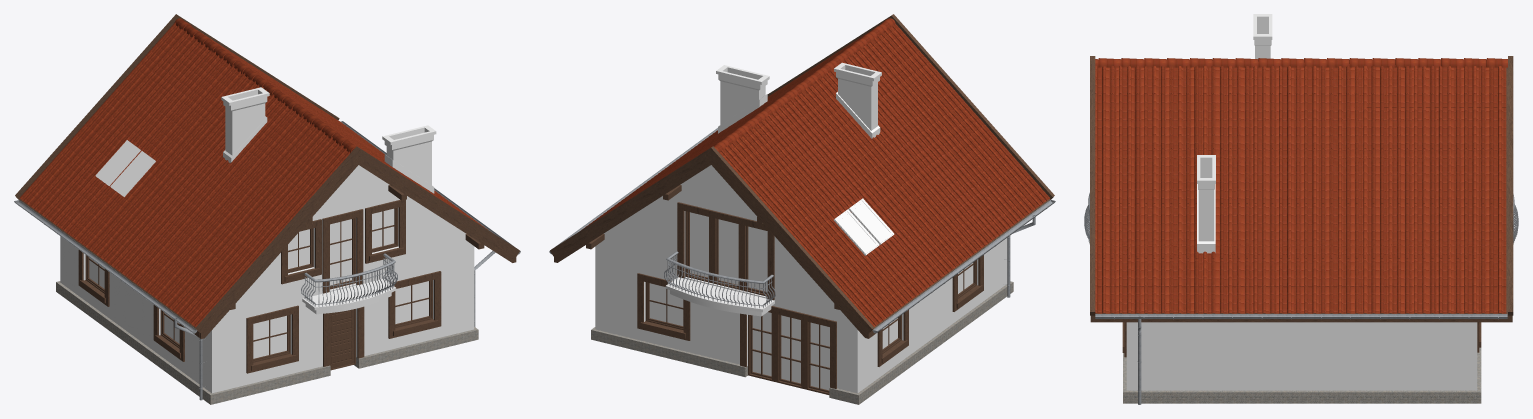
File: Cyprys_HouseGLTF_002.gltf
3 views of the same model, side by side, from view 1: azimuth 30°, elevation 25°; view 2: azimuth 150°, elevation 25°; view 3: azimuth 270°, elevation 25° (orthographic). The views are drawn at different scales.
Parts seen in each view (by area): view 1: roof, walls, boards, windows, cover_window, foundation, chimneys, gutters, barrels, window_roof, parapets, balcony (+1 smaller); view 2: roof, walls, windows, boards, cover_window, chimneys, foundation, gutters, balcony, barrels, window_roof, parapets; view 3: roof, walls, foundation, boards, chimneys, gutters, roof_support.
Boxes of the visible parts, x1=… form: roof: x1=19, y1=18, x2=487, y2=327; walls: x1=60, y1=165, x2=474, y2=393; boards: x1=15, y1=14, x2=519, y2=338; windows: x1=85, y1=207, x2=432, y2=362; cover_window: x1=78, y1=199, x2=441, y2=373; foundation: x1=56, y1=281, x2=478, y2=404; chimneys: x1=221, y1=87, x2=436, y2=193; gutters: x1=14, y1=121, x2=520, y2=400; barrels: x1=301, y1=253, x2=397, y2=306; window_roof: x1=95, y1=140, x2=155, y2=196; parapets: x1=79, y1=247, x2=438, y2=370; balcony: x1=302, y1=279, x2=396, y2=314; roof: x1=582, y1=18, x2=1050, y2=326; walls: x1=595, y1=165, x2=1007, y2=393; windows: x1=645, y1=211, x2=976, y2=394; boards: x1=550, y1=14, x2=1054, y2=338; cover_window: x1=637, y1=202, x2=983, y2=388; chimneys: x1=716, y1=62, x2=881, y2=138; foundation: x1=591, y1=281, x2=1013, y2=404; gutters: x1=549, y1=128, x2=1055, y2=333; balcony: x1=665, y1=277, x2=774, y2=316; barrels: x1=664, y1=251, x2=775, y2=308; window_roof: x1=833, y1=198, x2=894, y2=255; parapets: x1=640, y1=285, x2=982, y2=363; roof: x1=1093, y1=58, x2=1507, y2=313; walls: x1=1126, y1=322, x2=1477, y2=390; foundation: x1=1123, y1=347, x2=1481, y2=403; boards: x1=1090, y1=56, x2=1513, y2=322; chimneys: x1=1197, y1=14, x2=1272, y2=253; gutters: x1=1095, y1=314, x2=1507, y2=404; roof_support: x1=1095, y1=67, x2=1507, y2=315.
Size of the model in its own units: 11.91 by 8.39 by 11.77.
8 materials, 5 textured.
